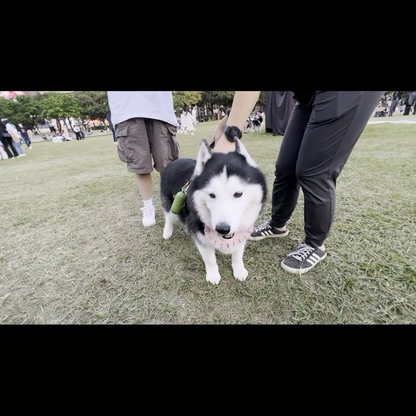husky: (156, 131, 269, 286)
